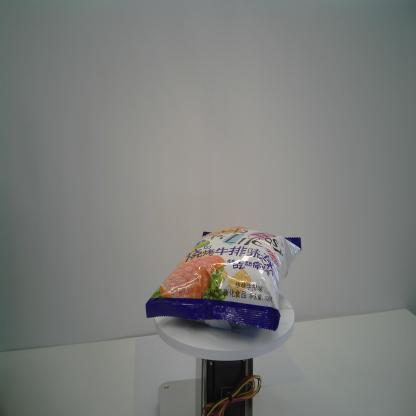Puffed Food: (144, 224, 303, 336)
